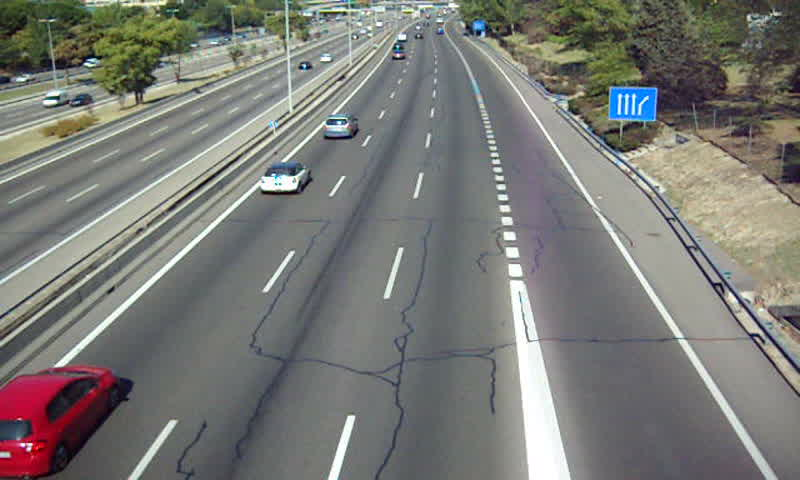car: (1, 367, 120, 476), (262, 162, 311, 194), (322, 115, 358, 137), (391, 50, 407, 62)
